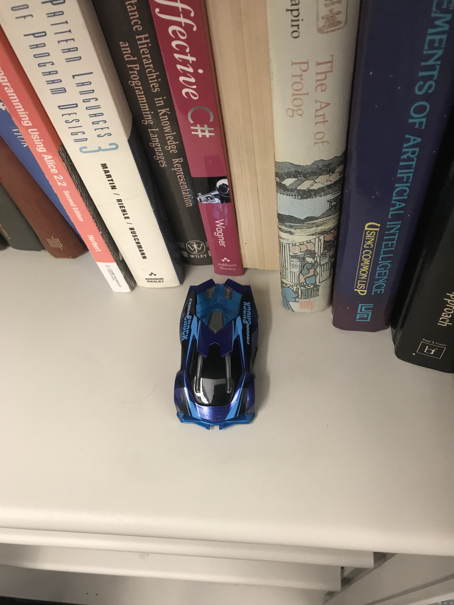Shock: (173, 277, 260, 429)
